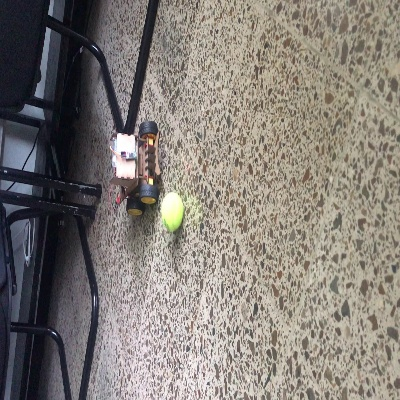Ball: (159, 192, 183, 231)
Robot: (108, 121, 158, 217)
